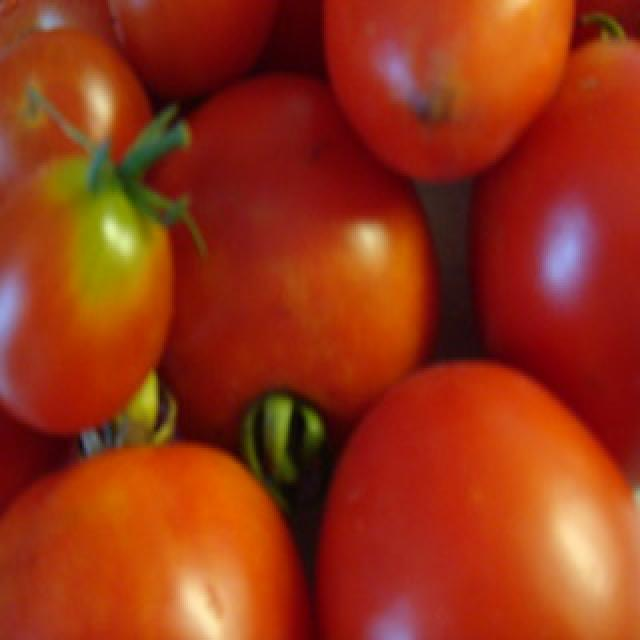Tomato: (139, 75, 445, 480), (310, 361, 638, 640), (0, 445, 314, 640), (0, 152, 190, 440)
